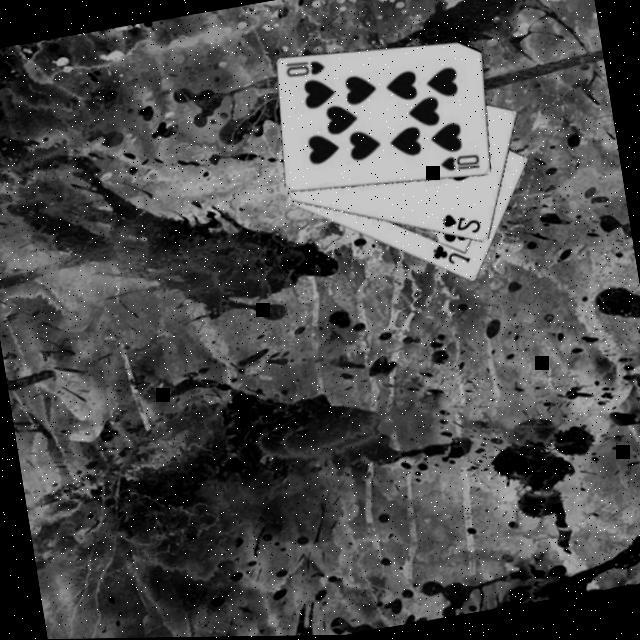10H: (282, 52, 330, 82), (437, 148, 484, 178)
2S: (439, 205, 485, 241)
JC: (428, 236, 474, 271)
